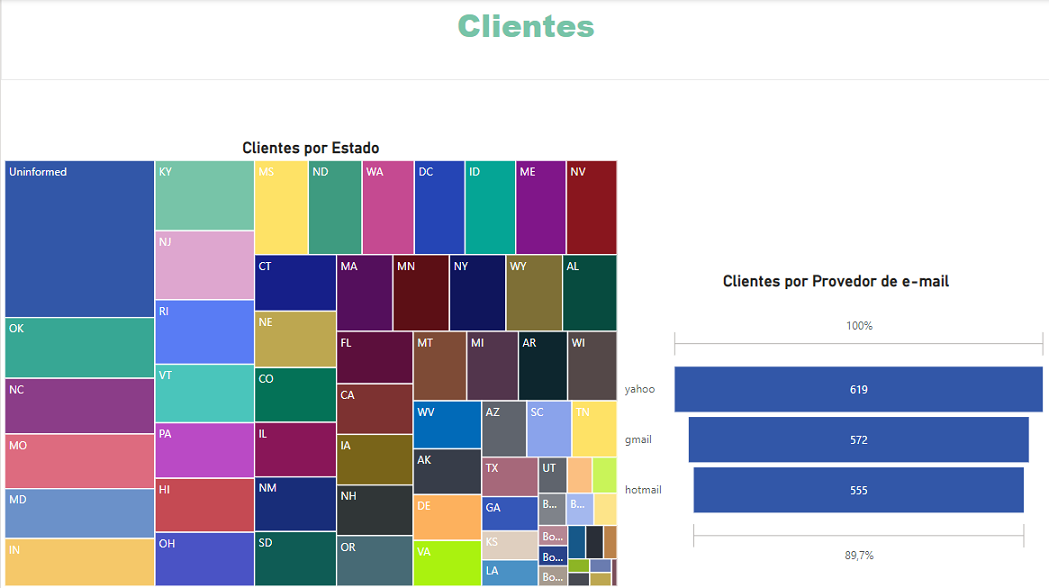

What the dashboard file says about the page in this screenshot:
{"tool":"powerbi","page":{"name":"Clientes","canvas":[1280,720],"ordinal":1},"visuals":[{"type":"treemap","title":"Clientes por Estado","fields":{"Group":["clientes.state"],"Values":["CountNonNull(clientes._id)"]},"box":[0,170.2,756.1,550.3],"z":0},{"type":"funnel","title":"Clientes por Provedor de e-mail","fields":{"Category":["clientes.email_provider"],"Y":["CountNonNull(clientes._id)"]},"box":[756.1,332.1,524.2,388.3],"z":1000},{"type":"textbox","box":[0,0,1280.3,98.8],"z":2000}]}

Visuals, with their boxes in screenshot pixels (x1, y1, x2, y2), scaled from the page's 1280x720 canvas onto the 1049x588 screenshot:
"Clientes por Estado" treemap: detection(0, 139, 620, 587)
"Clientes por Provedor de e-mail" funnel: detection(620, 271, 1048, 587)
textbox: detection(0, 0, 1048, 81)
